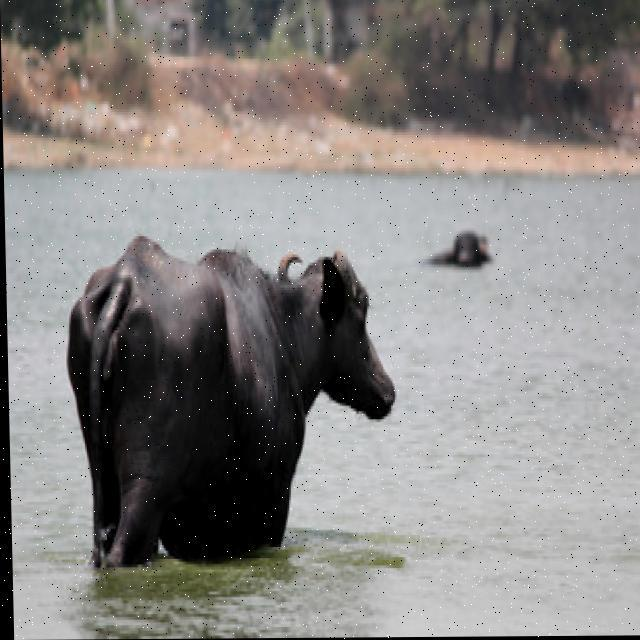Buffalo: (60, 226, 401, 571)
